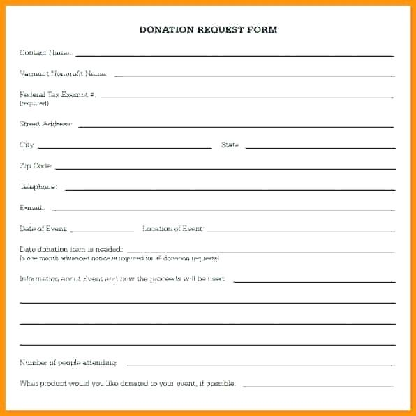textline: (75, 102, 396, 131), (16, 306, 398, 329), (17, 285, 399, 307), (48, 193, 398, 215), (16, 329, 398, 349), (52, 151, 399, 172), (60, 173, 398, 193), (73, 40, 396, 59), (98, 81, 396, 101), (124, 349, 396, 369), (125, 236, 398, 255), (112, 63, 397, 80), (203, 214, 398, 236), (35, 133, 214, 151), (243, 131, 398, 151), (230, 267, 397, 285), (240, 372, 396, 391), (66, 217, 138, 236)
